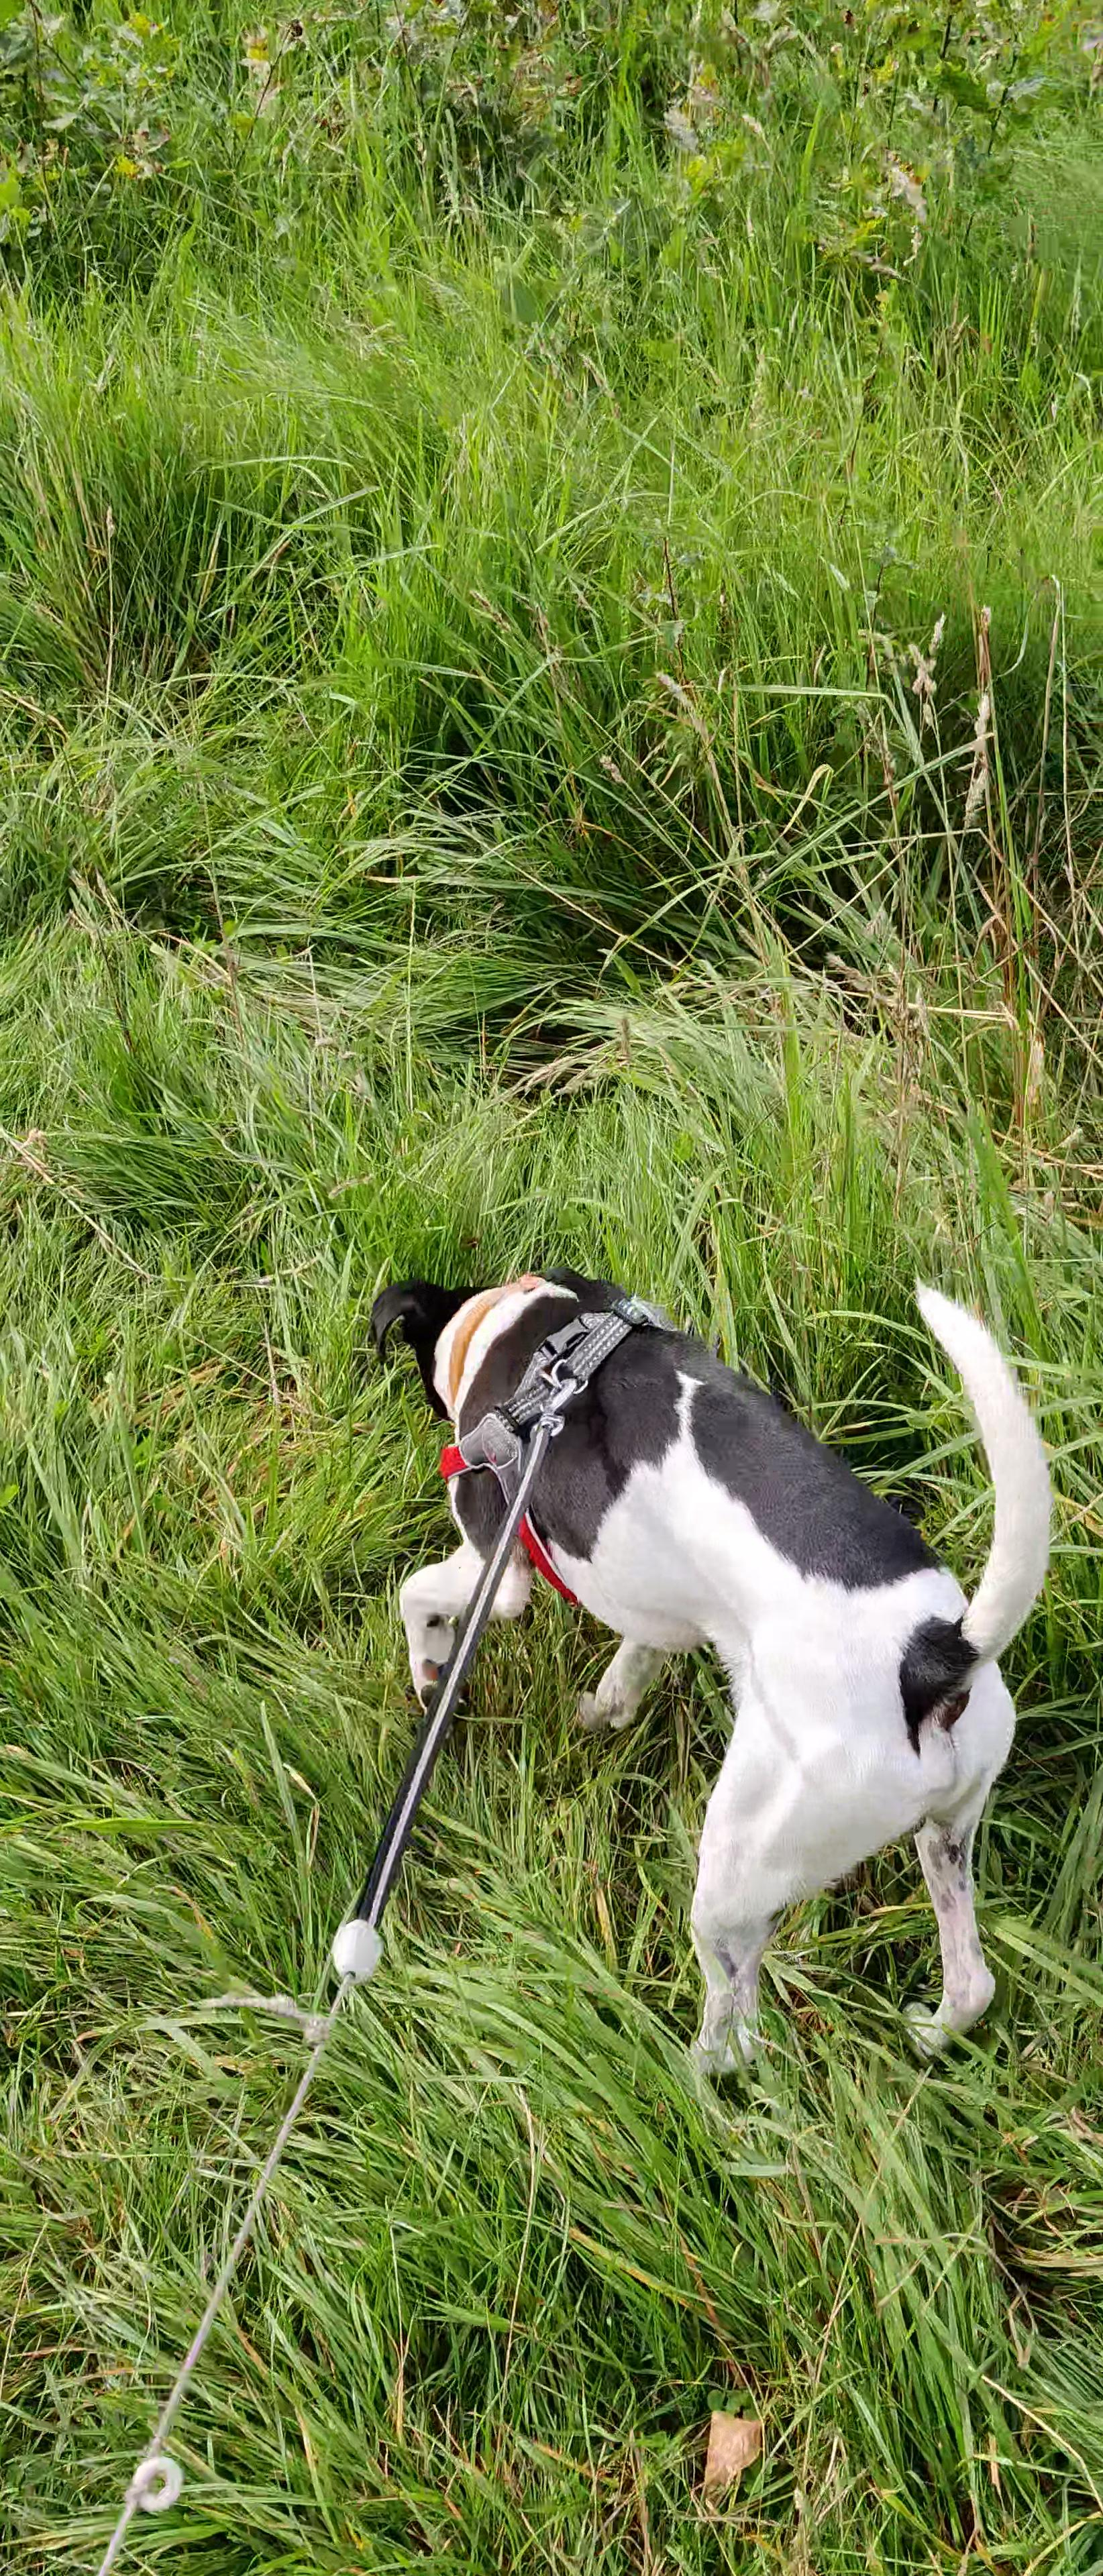Dog: (348, 1230, 1070, 2103)
